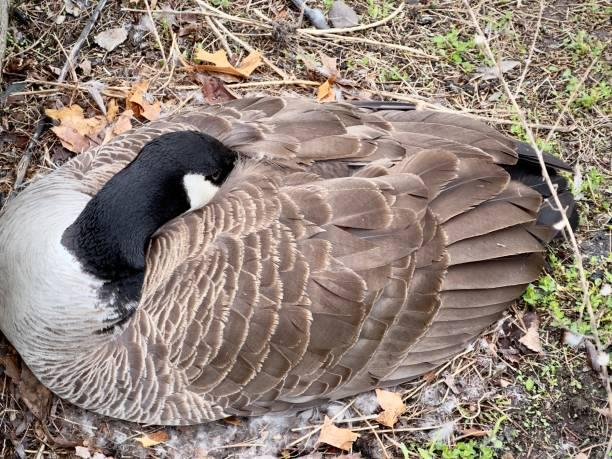Canadian-Goose: (0, 92, 566, 423)
